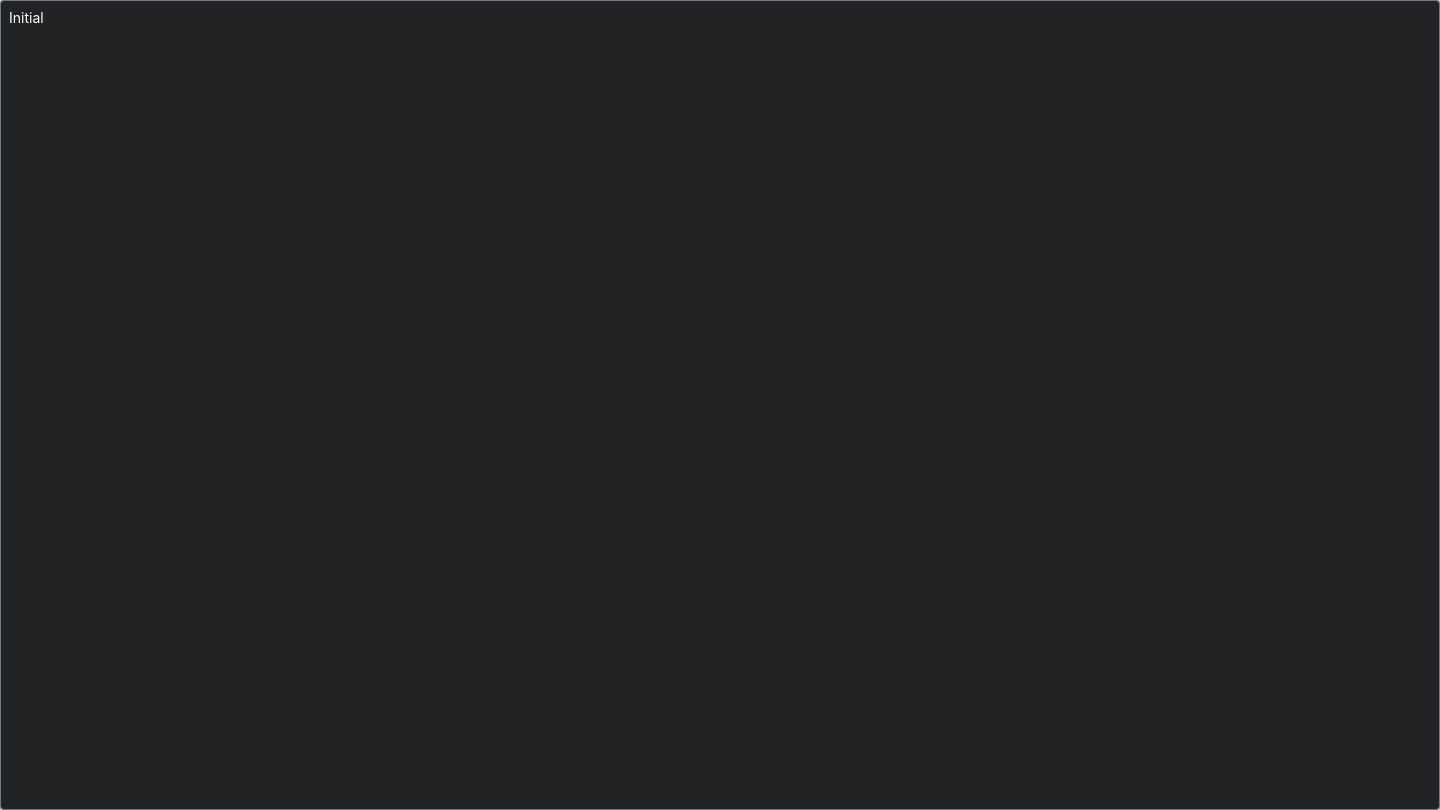
Scenario: TextNode legacy HTML content › preserves manually typed markup and entities when the canvas echoes edits
Double-click the text "Initial" at [26, 18], box [9,9,44,26]
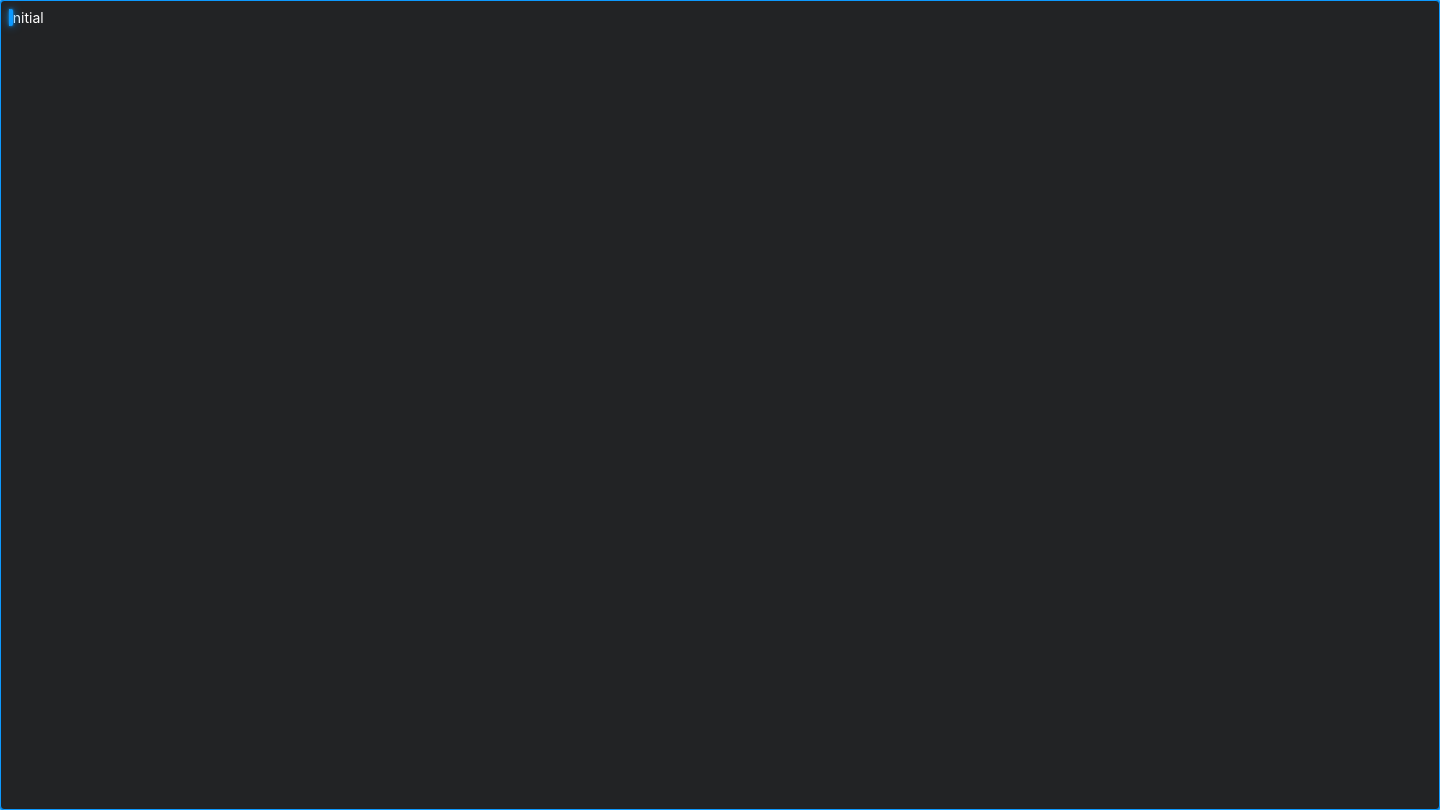
Replace the text in the text box named "文本节点内容" with "2 < 3 & <b>literal</b> &amp;" at [720, 405], box [1,1,1439,809]
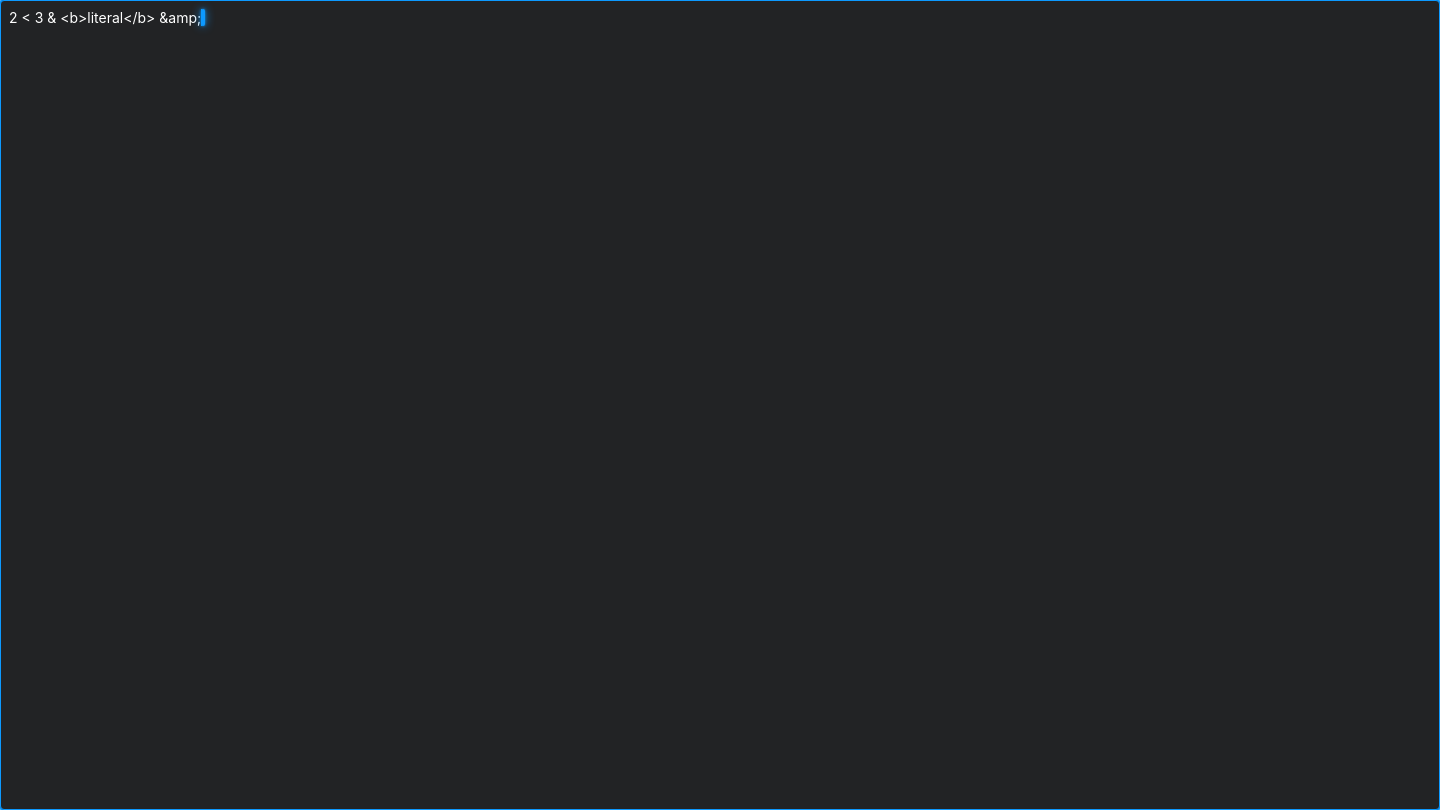
Leave the text box named "文本节点内容"
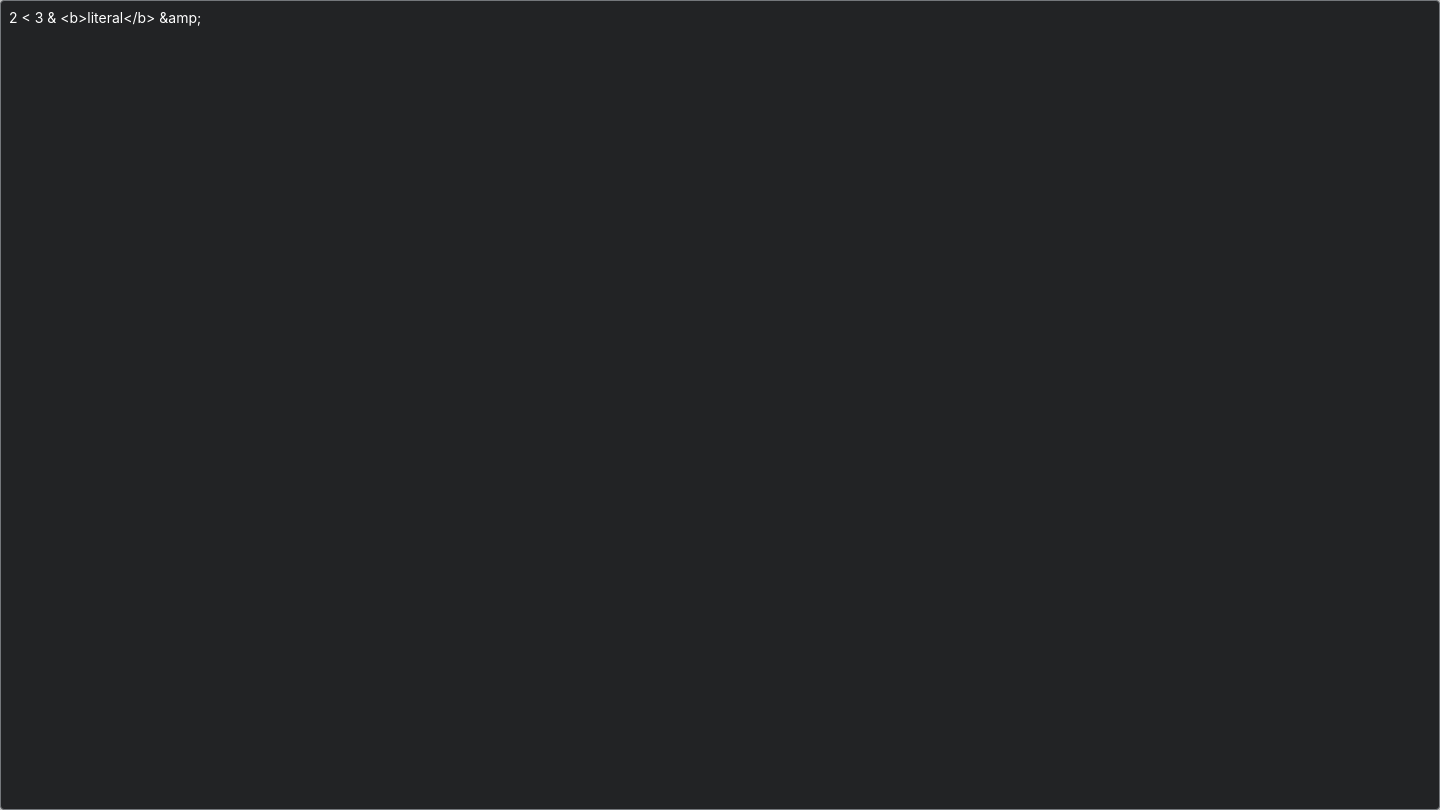
Check: the text "2 < 3 & <b>literal</b> &amp;" is shown, box [9,9,201,26]
